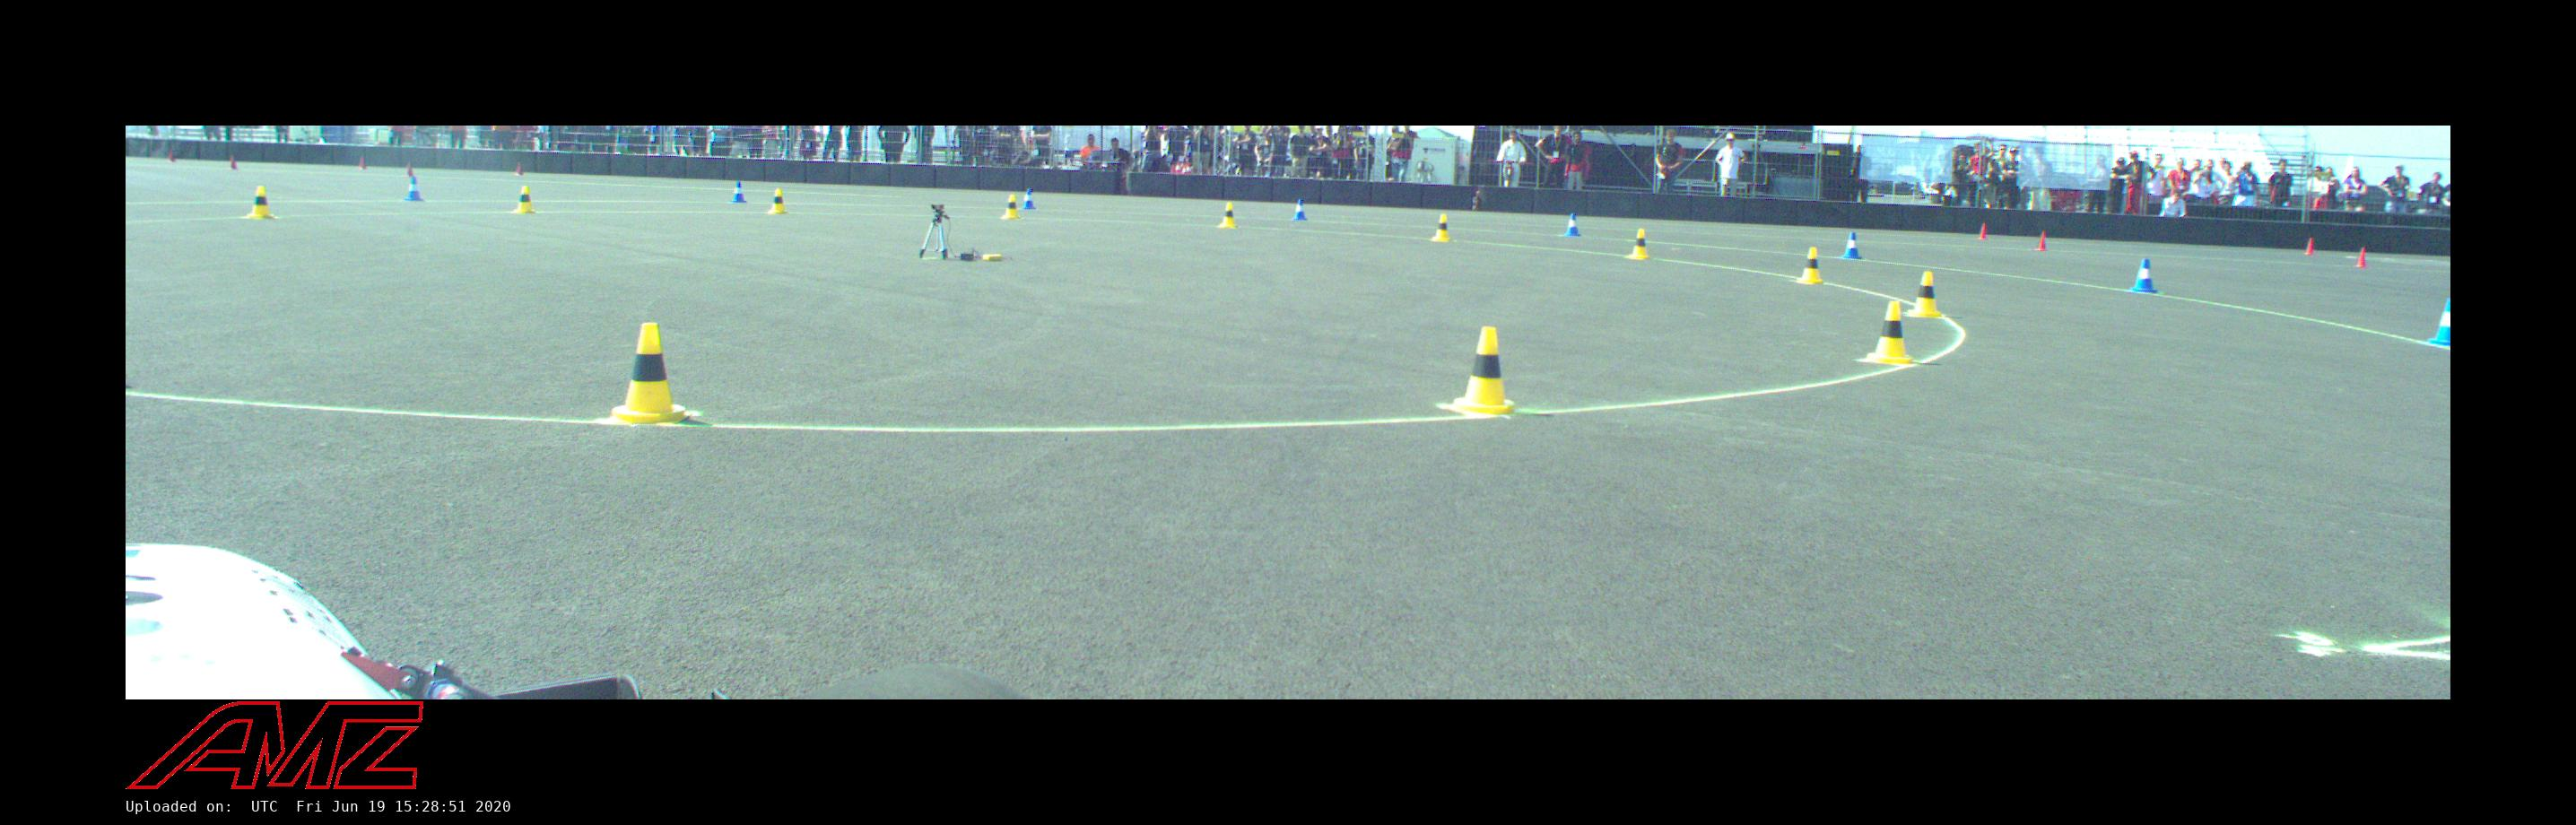blue_cone: (2128, 258, 2160, 293), (2429, 299, 2450, 345), (1841, 232, 1863, 259), (405, 178, 424, 201), (1563, 213, 1582, 237), (730, 181, 747, 203), (1021, 188, 1037, 210), (1292, 198, 1308, 221)
unknown_cone: (2353, 247, 2367, 268), (2034, 232, 2049, 251), (2303, 238, 2318, 256), (1980, 221, 1986, 239), (231, 159, 238, 169)
yellow_cone: (607, 323, 690, 424), (1445, 326, 1519, 416), (1863, 300, 1914, 366), (1908, 272, 1942, 317), (1796, 247, 1824, 284), (247, 187, 276, 219), (1626, 229, 1651, 259), (513, 186, 536, 213), (768, 188, 789, 215), (1432, 215, 1452, 241), (1218, 203, 1238, 228), (1001, 195, 1021, 220)
